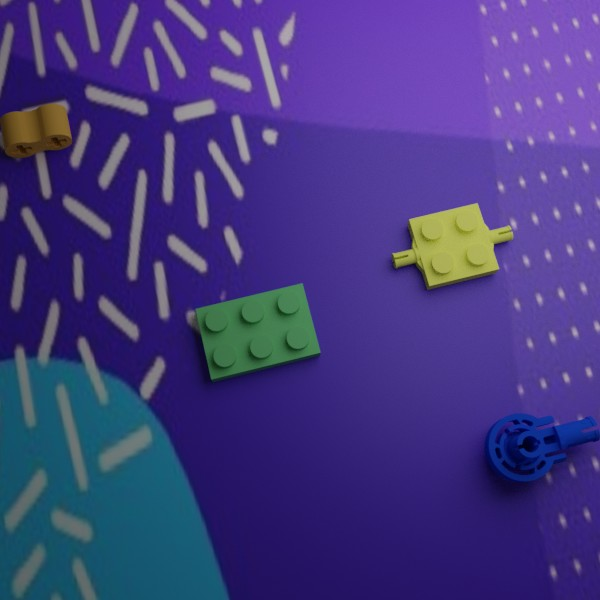lego: (195, 283, 320, 382), (391, 203, 513, 290), (484, 413, 600, 482), (0, 103, 72, 157)
